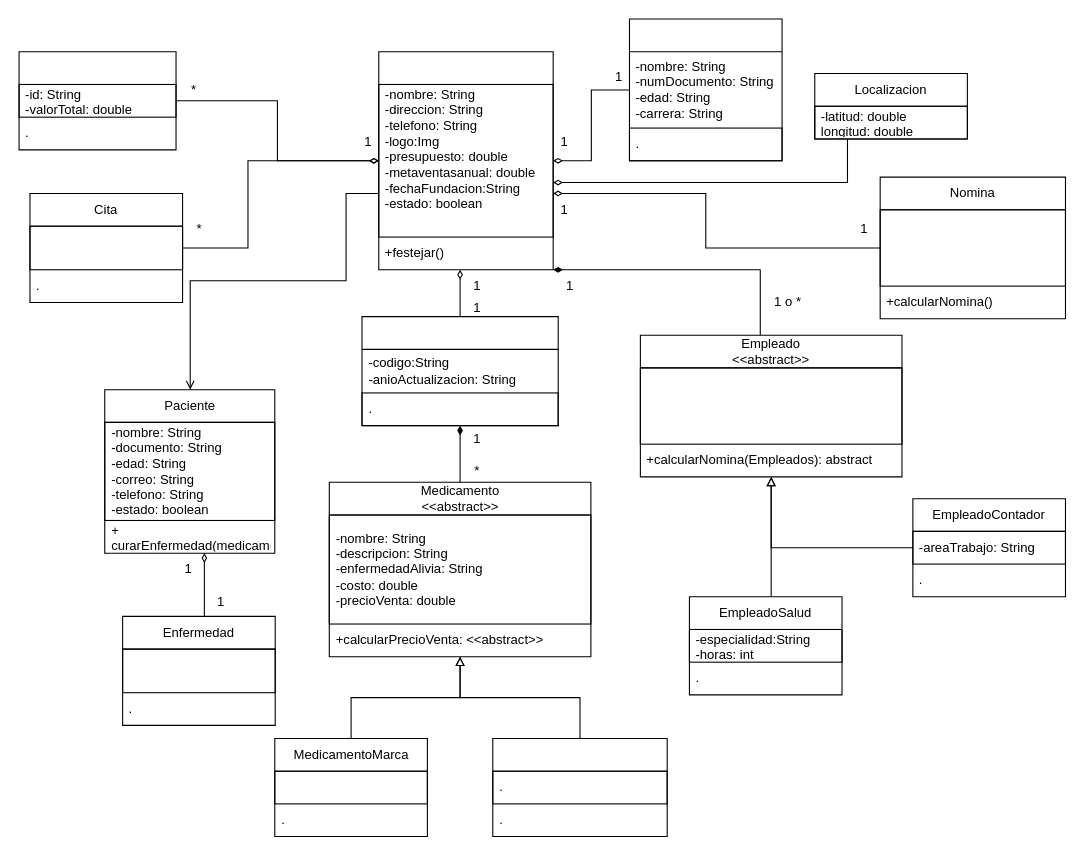
This 1085x856 diagram has some shape labels left out. Each missing label, with the box of its shape:
-fabricante: String: (274, 770, 427, 804)
-fecha: String -valor: Double: (29, 225, 183, 270)
-nombre: String -descripcion: String: (122, 648, 275, 693)
-nombre: String -id: String -edad: String -salariobase: double: (639, 367, 902, 444)
-total : double -fechaRealizacion: String -codigo: String: (879, 209, 1065, 286)
Gerente: (628, 18, 782, 161)
Hospital: (378, 51, 553, 270)
Inventario: (361, 316, 558, 426)
MedicamentoGenerico: (492, 737, 667, 837)
Venta: (18, 51, 176, 150)
